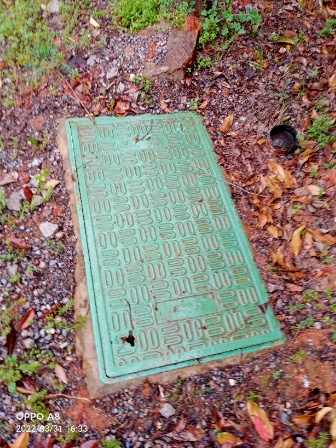good: (65, 111, 286, 383)
